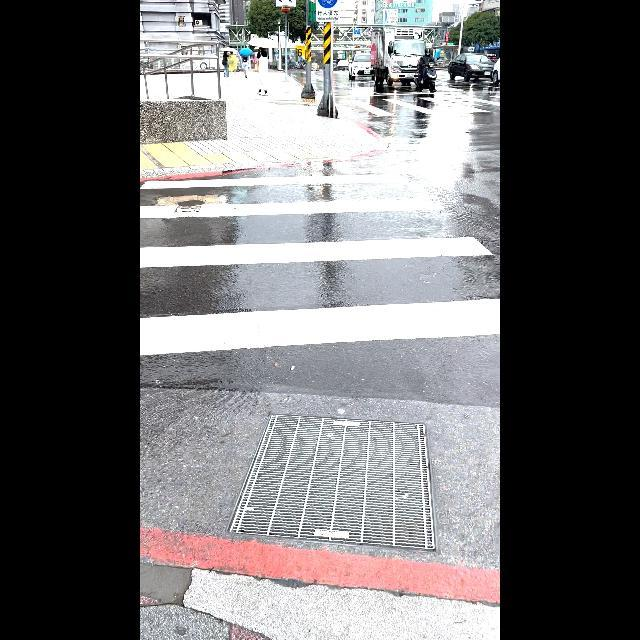sidewalk: (140, 155, 500, 414)
